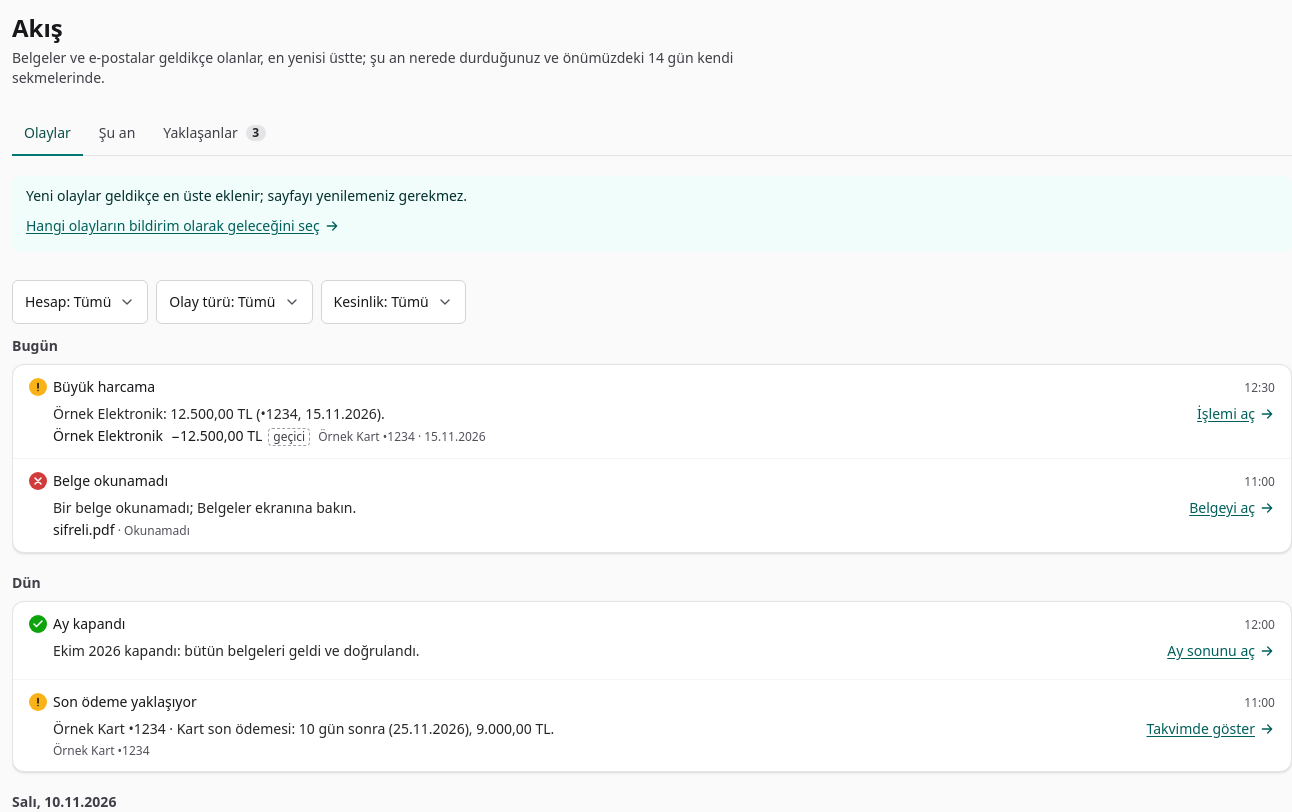
Test: FeedPage: its parts › opens on the events, with what stands now and the days ahead one tab away
Check: the tab "Yaklaşanlar 3" is shown, box [151,112,278,156]
What coordinates should you click on to do the following:
click the tab "Şu an"
I would click on:
 (117, 134)
Its box is [87,112,147,156].
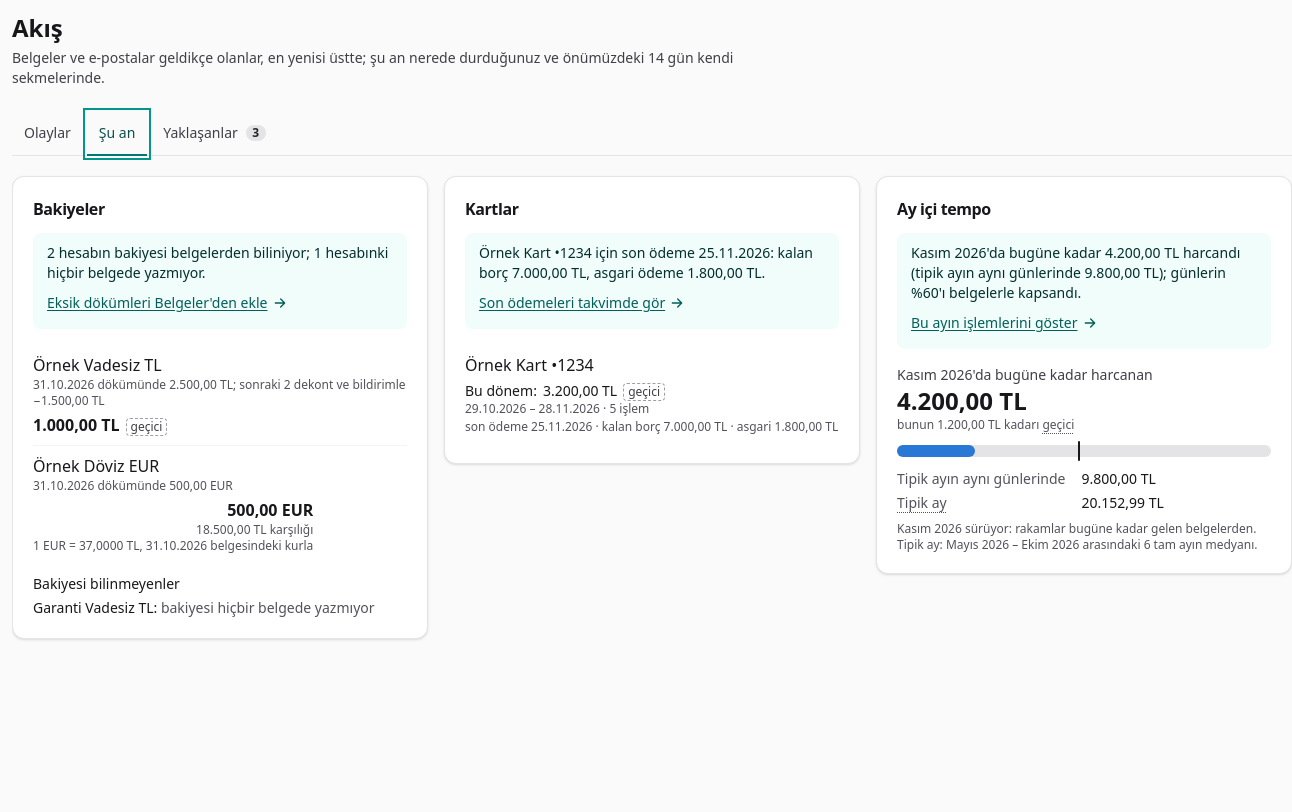
Check: the element "Bakiyeler" is shown, box [12,176,428,639]
